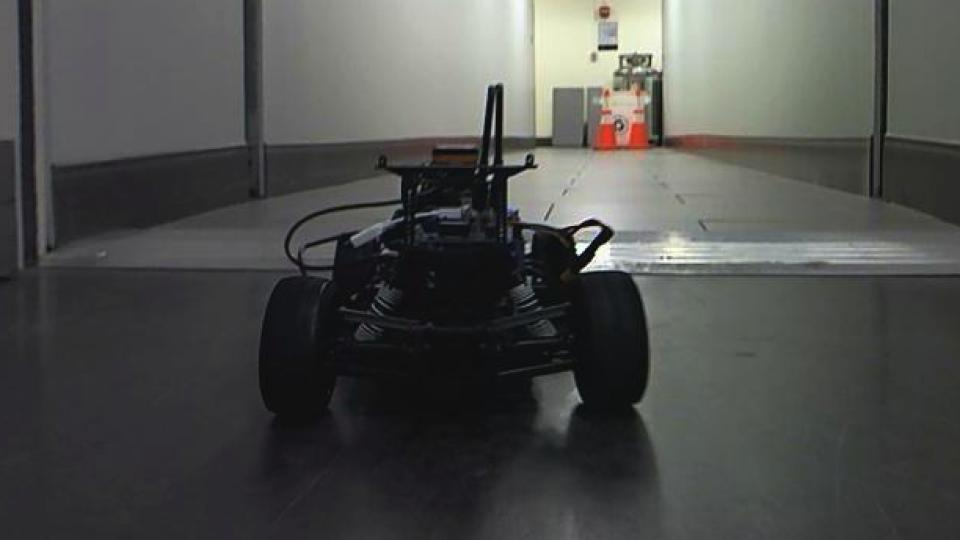car: (254, 80, 653, 425)
